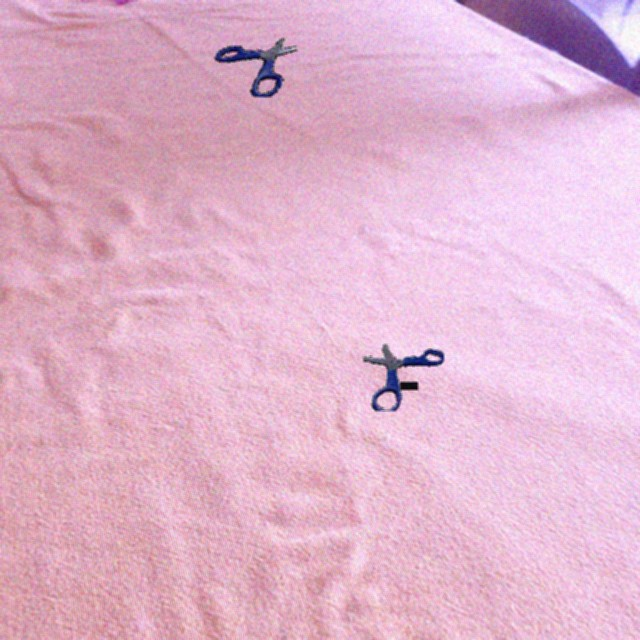scissors: (363, 344, 444, 411), (214, 37, 297, 97)
